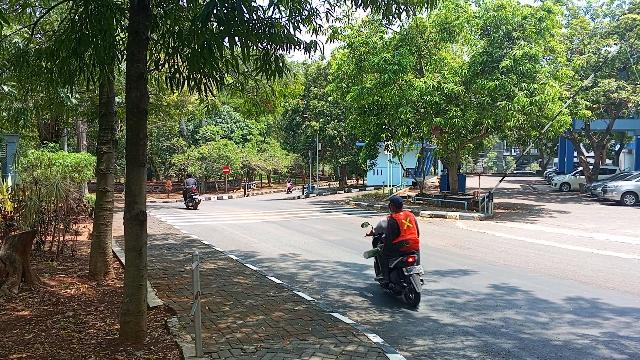motor: (373, 238, 425, 308), (187, 190, 202, 210)
non-helm: (390, 198, 404, 213), (188, 174, 193, 180)
